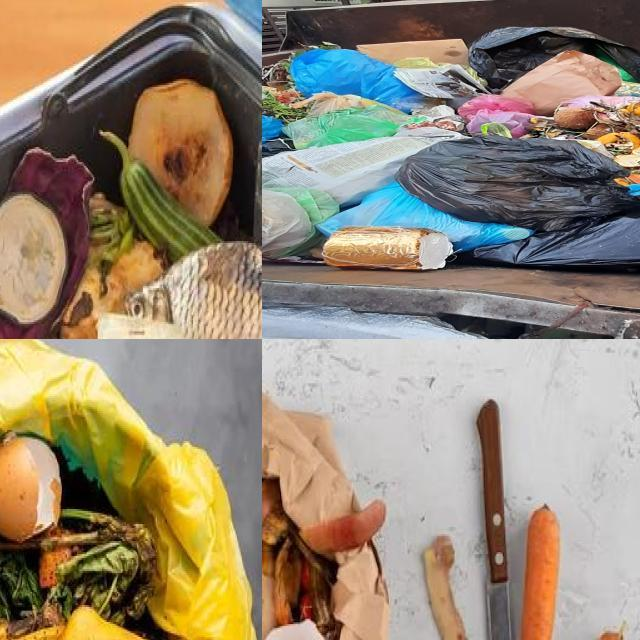Garbage: (262, 27, 640, 273), (0, 36, 262, 339), (0, 423, 194, 640)
Plastic: (322, 226, 453, 270)
Plastic_Bag: (395, 136, 640, 231), (316, 182, 535, 253), (456, 206, 640, 272), (469, 26, 640, 93), (291, 49, 427, 112), (284, 103, 426, 149), (268, 187, 338, 259), (459, 95, 535, 137), (262, 190, 310, 254), (268, 187, 338, 226), (291, 92, 383, 117), (592, 46, 637, 82), (557, 95, 640, 109), (392, 57, 453, 68), (262, 115, 284, 144), (262, 139, 294, 158), (446, 93, 475, 109), (615, 82, 640, 98), (462, 67, 484, 83), (627, 184, 640, 196), (262, 93, 268, 100)
